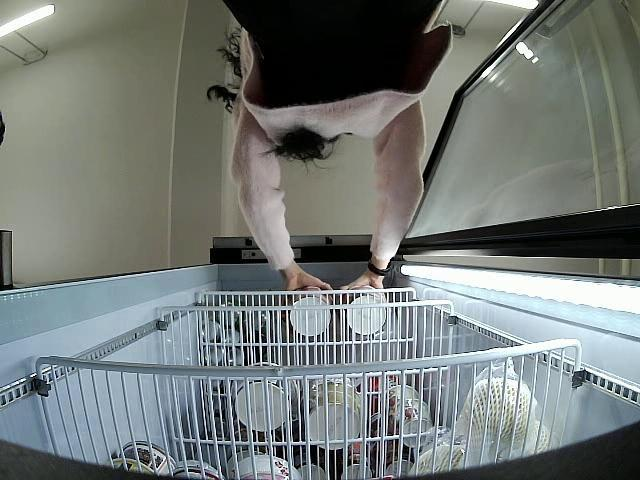01_ShinRamen_L: (345, 286, 387, 335), (290, 287, 332, 336)
